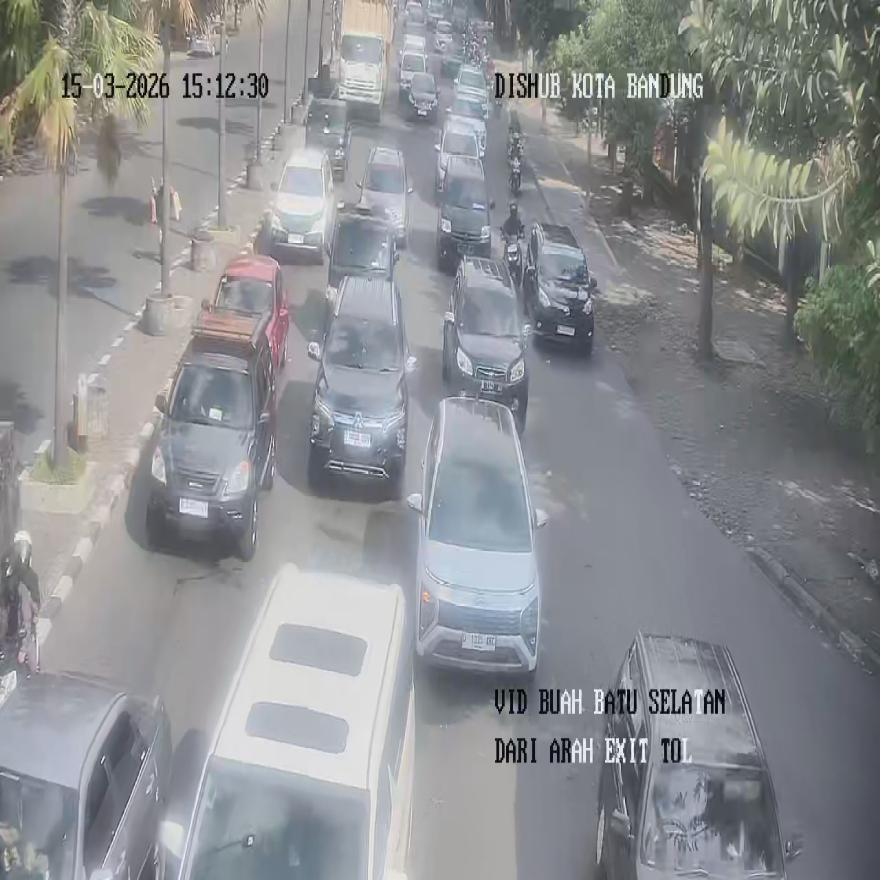Mobil: (176, 562, 416, 878), (594, 630, 804, 878), (407, 395, 548, 677), (0, 671, 172, 879), (144, 309, 276, 559), (307, 274, 418, 484), (441, 256, 530, 430), (201, 250, 289, 378), (522, 221, 598, 350), (326, 205, 397, 319), (269, 146, 335, 261), (436, 156, 494, 269), (356, 144, 413, 248), (433, 115, 483, 198), (306, 94, 352, 180)
Motor: (502, 227, 522, 288), (508, 132, 524, 194)
Truk menengah: (336, 0, 391, 121)
